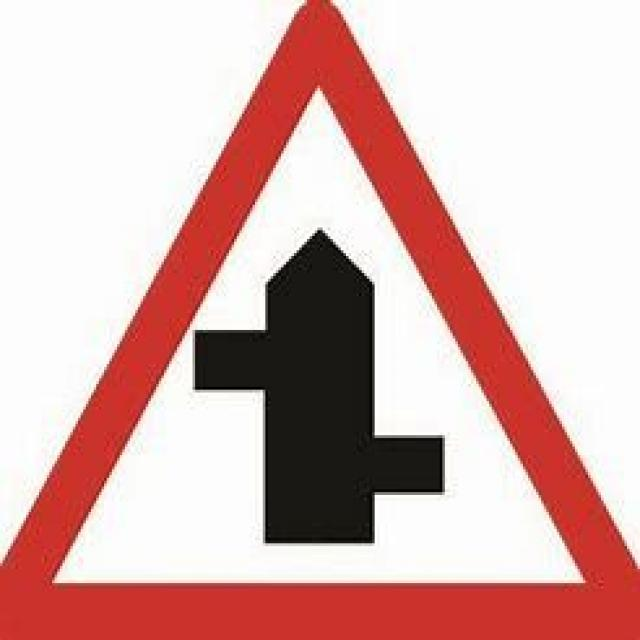STAGGERED_INTERSECTION: (0, 0, 637, 637)
